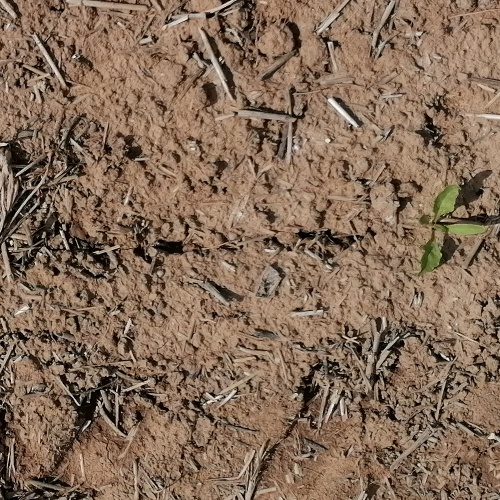beet: (418, 186, 487, 277)
